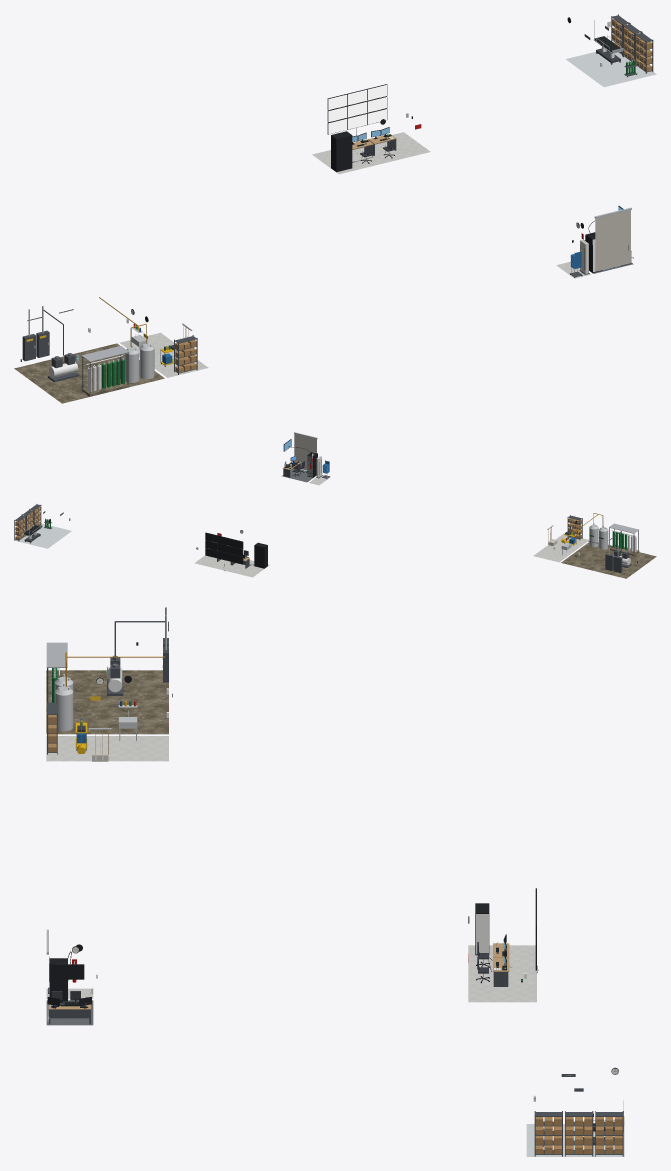
The model's file is 11_n1_servicios_y_bodegas.glb.
3 renders of one model, top to bottom at view 1: azimuth 30°, elevation 25°; view 2: azimuth 150°, elevation 25°; view 3: azimuth 270°, elevation 25°, orthographic. The views are drawn at different scales.
Parts seen in each view (by area): view 1: piso · Sala de máquinas y gases medicinales, persiana_cabina, banco_cilindros, piso · Site y comunicaciones · control de video, piso · Pasillo de camillas y bodega, anaquel_rotulado (×2), piso · Séptico · limpieza e intendencia, rack_42u, compresor; view 2: piso · Sala de máquinas y gases medicinales, banco_cilindros, piso · Site y comunicaciones · control de video, piso · Séptico · limpieza e intendencia, piso · Pasillo de camillas y bodega, anaquel_rotulado (×2), persiana_cabina, rack_42u; view 3: piso · Sala de máquinas y gases medicinales, anaquel_rotulado (×3), piso · Site y comunicaciones · control de video, piso · Séptico · limpieza e intendencia, consola_cabina_av, banco_cilindros, termo_oxigeno.
Part boxes in pixels (box(x1,y1,x2,y2)): piso · Sala de máquinas y gases medicinales: box(14, 343, 164, 403); persiana_cabina: box(594, 207, 631, 271); banco_cilindros: box(81, 346, 129, 396); piso · Site y comunicaciones · control de video: box(312, 132, 430, 174); piso · Pasillo de camillas y bodega: box(566, 52, 656, 87); anaquel_rotulado (×2): box(174, 32, 653, 374); piso · Séptico · limpieza e intendencia: box(120, 332, 208, 377); rack_42u: box(331, 131, 352, 172); compresor: box(47, 353, 79, 382); piso · Sala de máquinas y gases medicinales: box(561, 542, 656, 578); banco_cilindros: box(609, 523, 639, 555); piso · Site y comunicaciones · control de video: box(194, 555, 269, 577); piso · Séptico · limpieza e intendencia: box(533, 533, 589, 562); piso · Pasillo de camillas y bodega: box(15, 523, 71, 548); anaquel_rotulado (×2): box(14, 514, 582, 541); persiana_cabina: box(294, 432, 317, 470); rack_42u: box(254, 542, 267, 568); piso · Sala de máquinas y gases medicinales: box(46, 670, 168, 734); anaquel_rotulado (×3): box(534, 1111, 623, 1156); piso · Site y comunicaciones · control de video: box(468, 945, 536, 1002); piso · Séptico · limpieza e intendencia: box(46, 736, 168, 761); consola_cabina_av: box(47, 997, 91, 1024); banco_cilindros: box(46, 642, 67, 711); termo_oxigeno: box(54, 683, 73, 731).
Bounding box in the file's own units: 49.73 × 3.57 × 24.8.
Materials: 63 (7 with a texture image).
